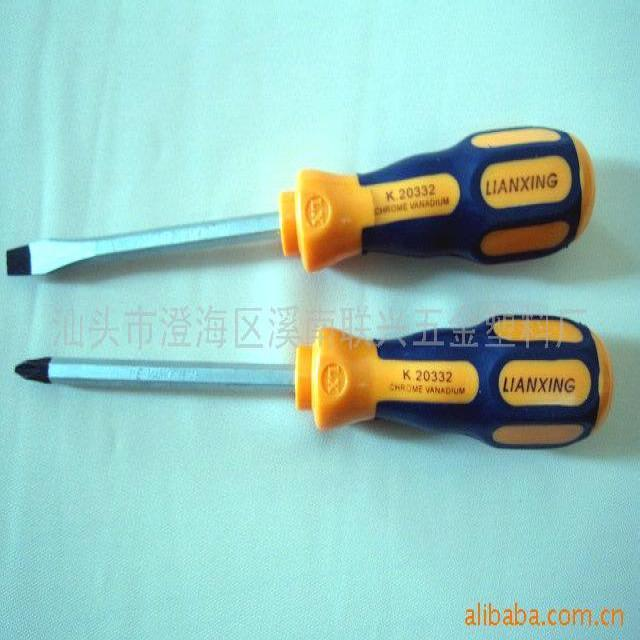screwdriver: (0, 110, 599, 317), (0, 294, 621, 448)
